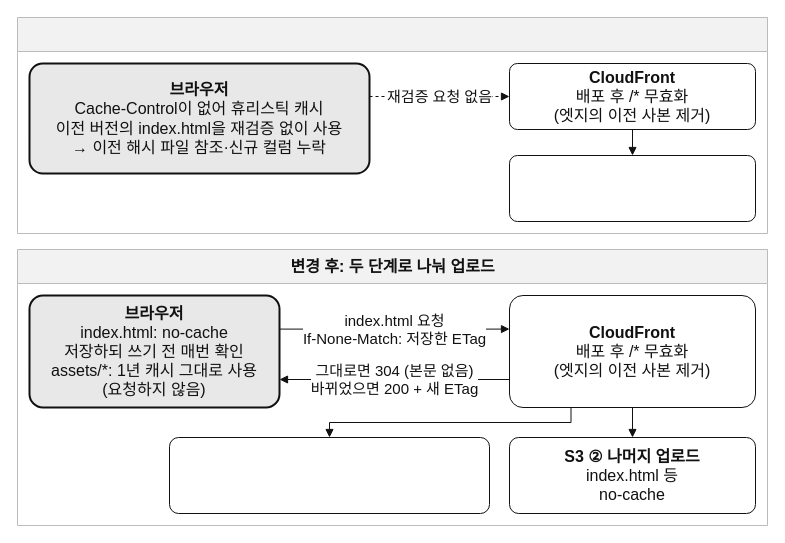
The diagram is 785 pixels wide and 543 high, and some of its shapes have lost their labels. Here are the shapes that lost their labels. From the top down, the box of each, then its label:
(16, 16, 768, 234): 변경 전 : 모든 파일을 Cache-Control 없이 한 번에 업로드
(508, 154, 756, 222): S3 모든 파일 Cache-Control 없음
(168, 436, 490, 514): S3 ① assets/* 먼저 업로드 해시 파일명 public, max-age=31536000, immutable
